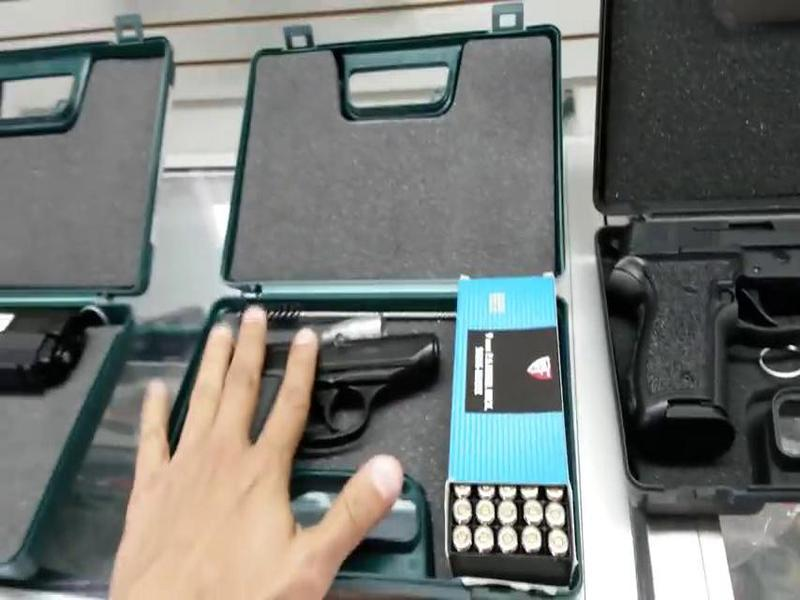Pistola: (173, 313, 451, 524)
